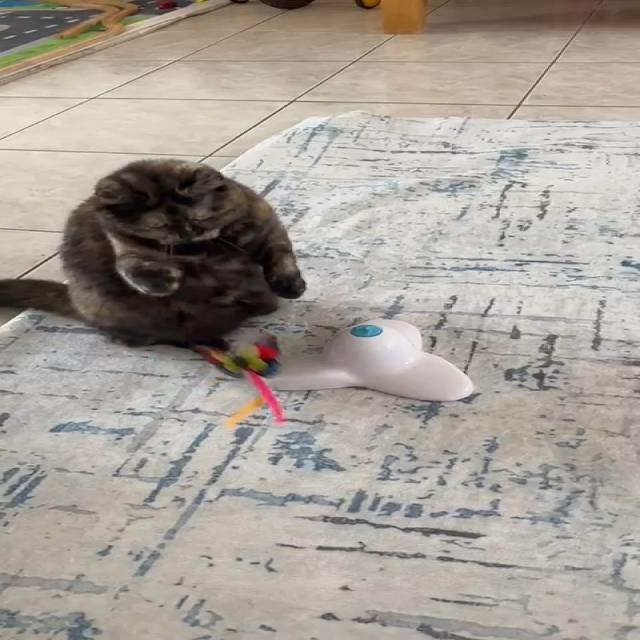authorized: (0, 157, 307, 350)
